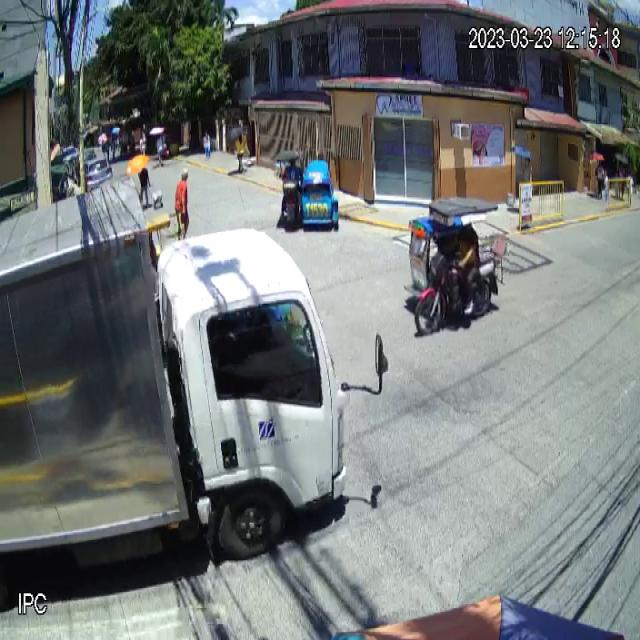Tricycle: (407, 197, 505, 335), (276, 150, 339, 232)
Truck: (0, 173, 390, 576)
